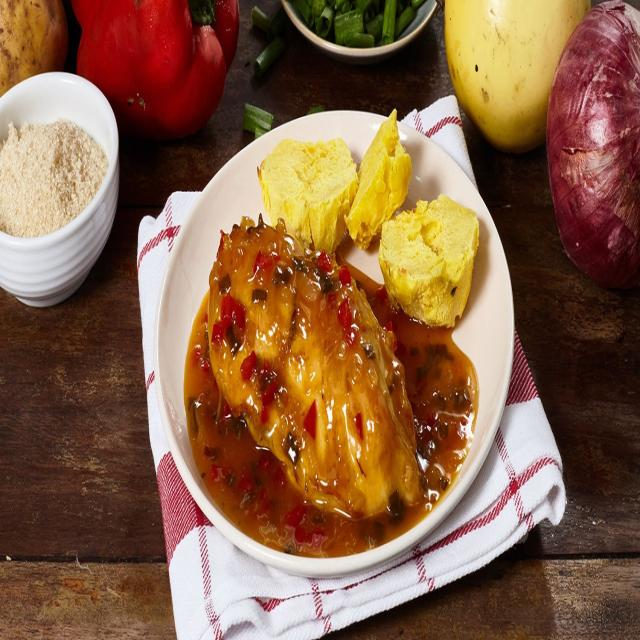carne de cerdo: (204, 214, 426, 521)
papa: (378, 188, 482, 327)
